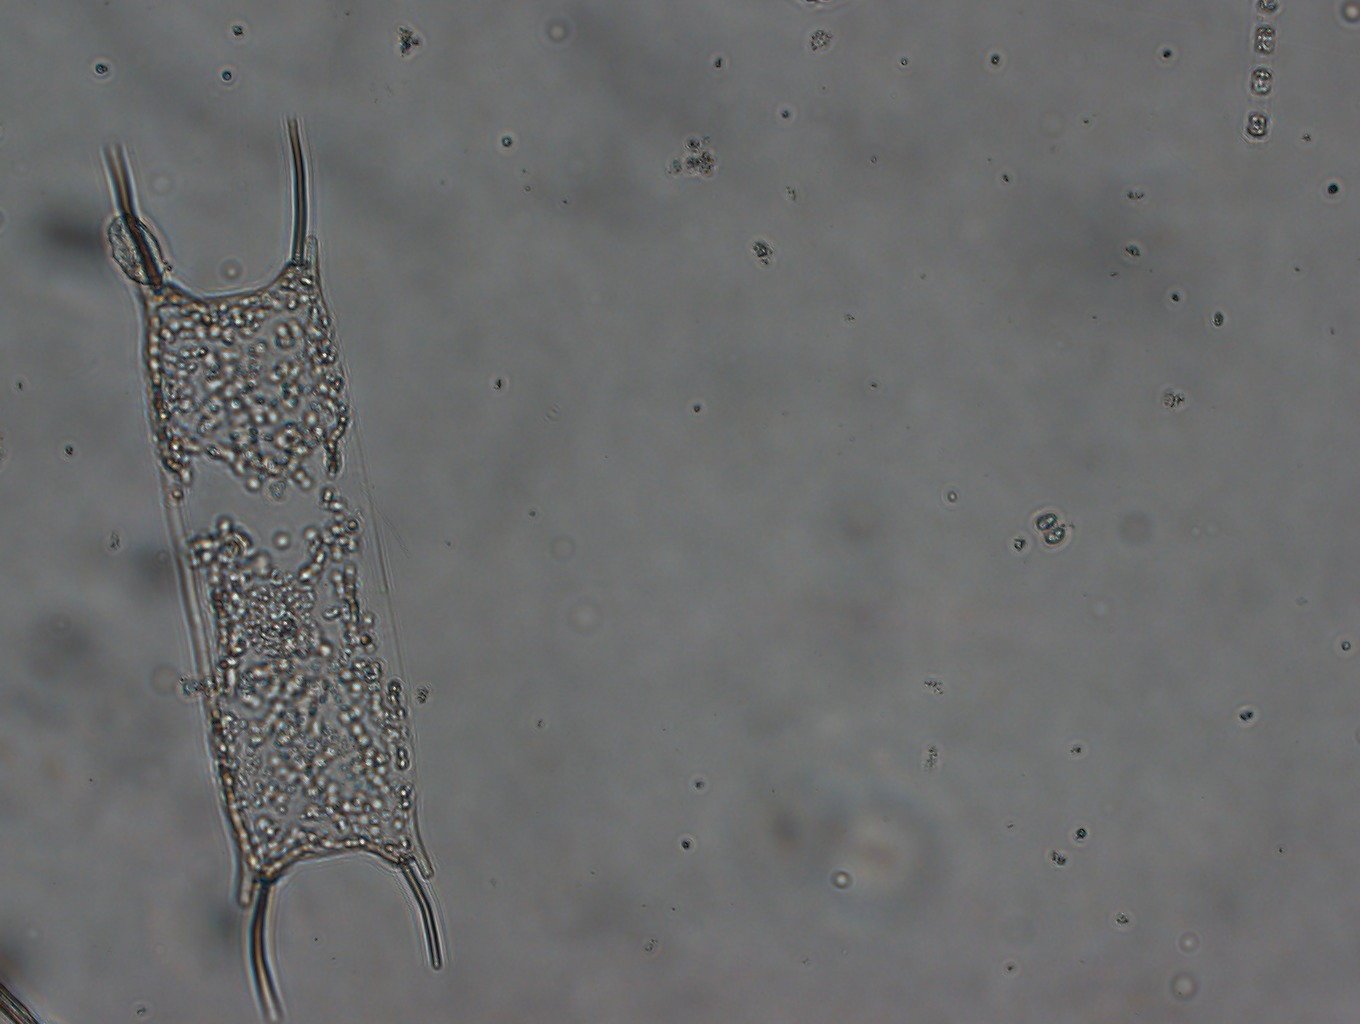biddulphia: (80, 109, 459, 1016)
